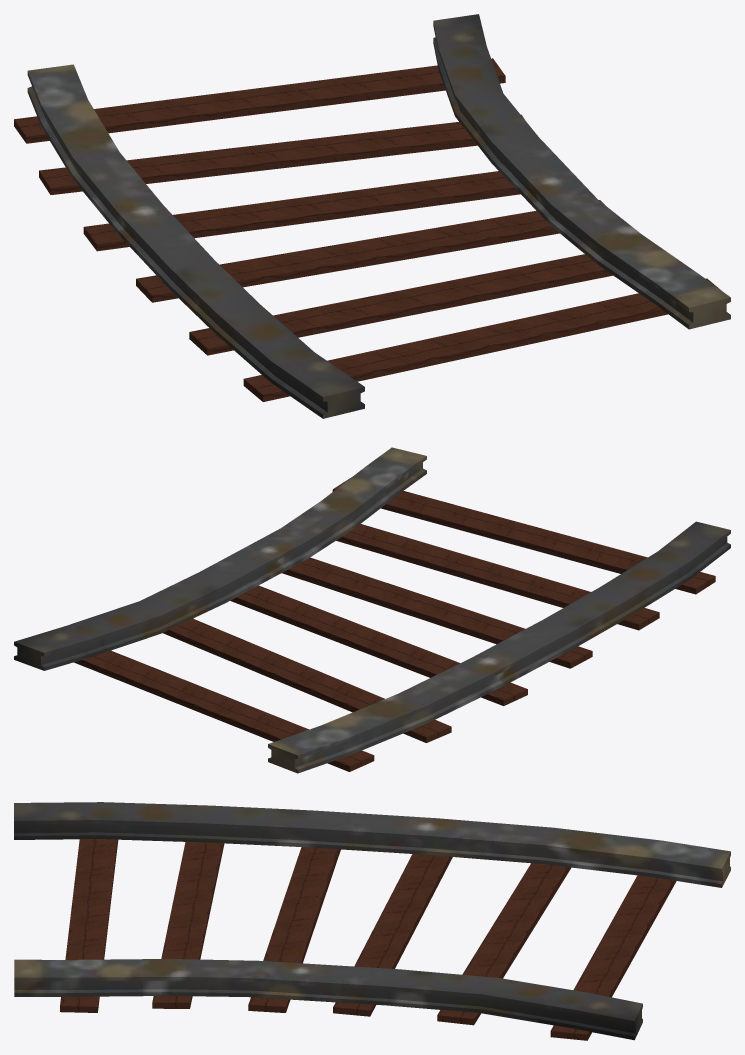
The model's file is Trilho_Curva_Menor_Direita.fbx.
The picture shows the model from 3 angles, top to bottom: view 1: azimuth 30°, elevation 25°; view 2: azimuth 150°, elevation 25°; view 3: azimuth 270°, elevation 25°; orthographic projection. The views are drawn at different scales.
Parts seen in each view (by area): view 1: Trilho.Curva.Menor.Direita; view 2: Trilho.Curva.Menor.Direita; view 3: Trilho.Curva.Menor.Direita.
Boxes of the visible parts, left/top/right/bottom form: Trilho.Curva.Menor.Direita: left=14, top=14, right=730, bottom=418; Trilho.Curva.Menor.Direita: left=14, top=447, right=730, bottom=773; Trilho.Curva.Menor.Direita: left=14, top=802, right=730, bottom=1040.
Bounding box in the file's own units: 251 × 12.94 × 335.
